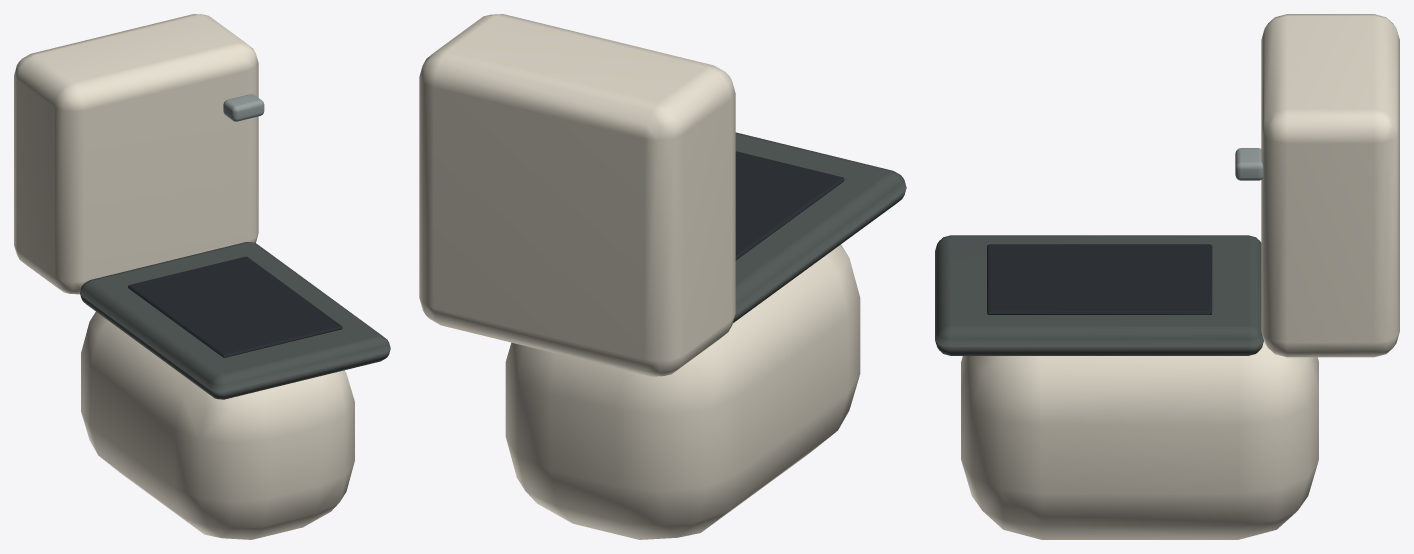
The model's file is H_Toilet.fbx.
3 views of the same model, side by side, from view 1: azimuth 30°, elevation 25°; view 2: azimuth 150°, elevation 25°; view 3: azimuth 270°, elevation 25° (orthographic). The views are drawn at different scales.
Visible parts, largest first — view 1: H_Toilet; view 2: H_Toilet; view 3: H_Toilet.
Part boxes in pixels (<box>): H_Toilet: <box>14,14,390,539</box>; H_Toilet: <box>419,14,906,539</box>; H_Toilet: <box>935,14,1399,539</box>.
Bounding box in the file's own units: 0.47 × 0.87 × 0.805.
